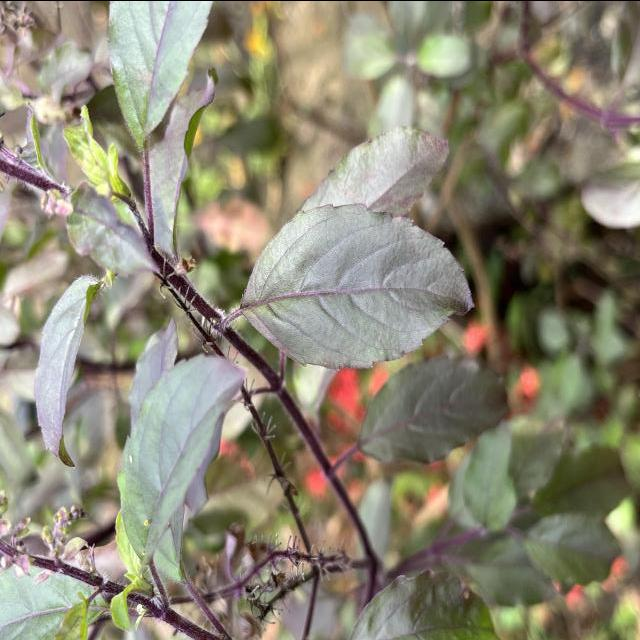Ocimum tenuiflorum: (242, 200, 474, 373)
